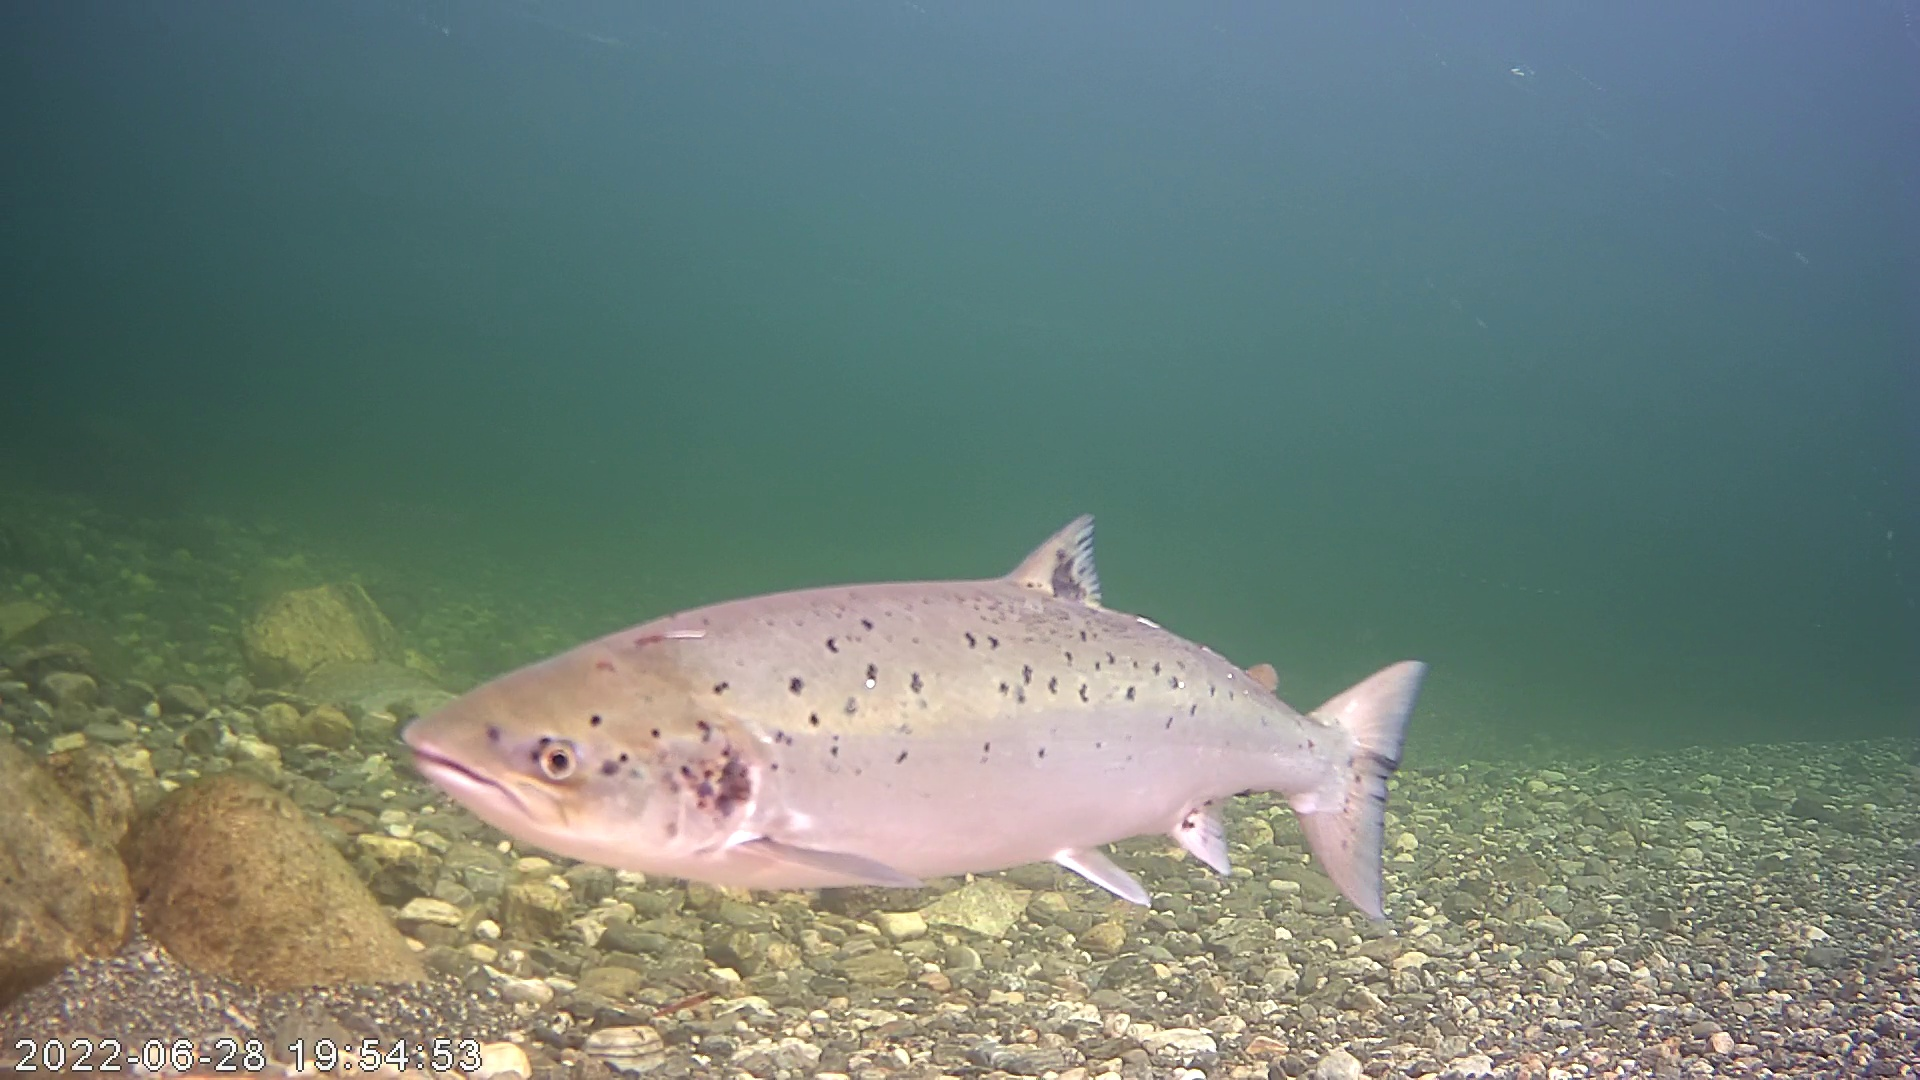salmon: (376, 473, 1431, 907)
